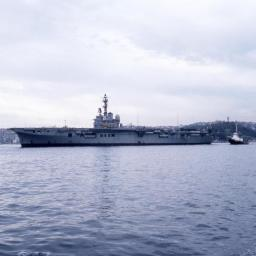Portanaves: (10, 93, 216, 151)
